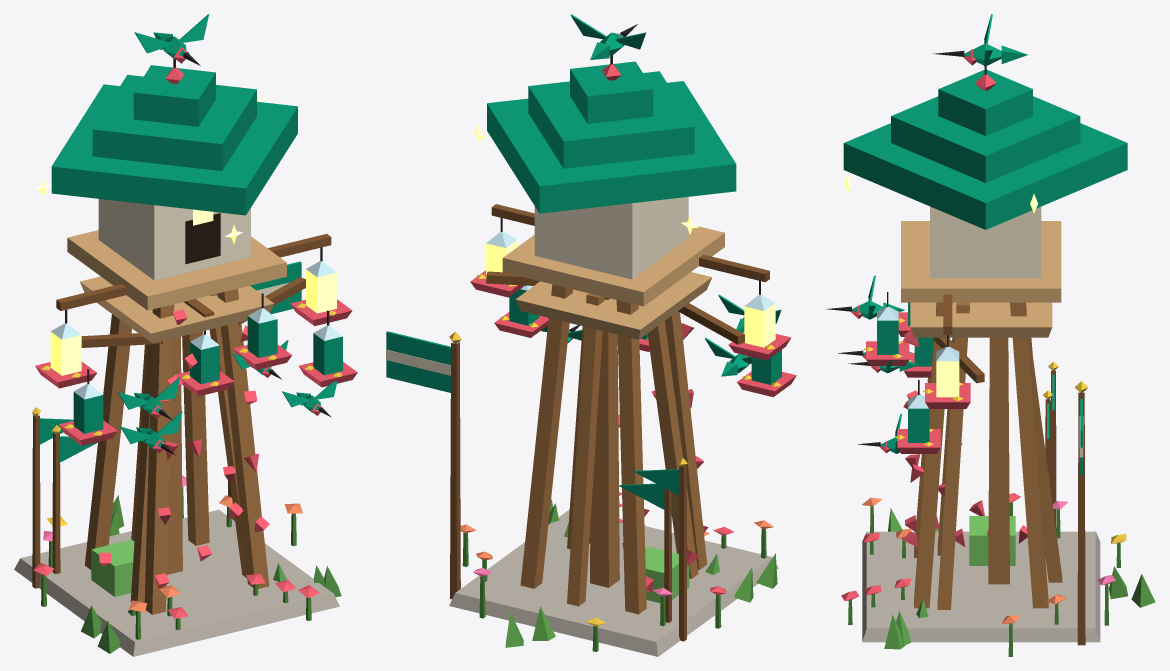
Rendered from hummingbird-feeder-tower-blocky.glb.
3 renders of one model, left to right at view 1: azimuth 30°, elevation 25°; view 2: azimuth 150°, elevation 25°; view 3: azimuth 270°, elevation 25°, orthographic.
Parts seen in each view (by area): view 1: lv3, lv2, lv1; view 2: lv3, lv2, lv1; view 3: lv3, lv2, lv1.
Part boxes in pixels (<box>): lv3: <box>14,14,352,656</box>; lv2: <box>43,276,357,638</box>; lv1: <box>91,299,288,616</box>; lv3: <box>386,14,791,656</box>; lv2: <box>476,271,796,640</box>; lv1: <box>564,297,719,603</box>; lv3: <box>826,14,1155,656</box>; lv2: <box>838,302,1127,645</box>; lv1: <box>848,337,1027,618</box>.
Size of the model in its own units: 1.66 by 2.79 by 1.48.
